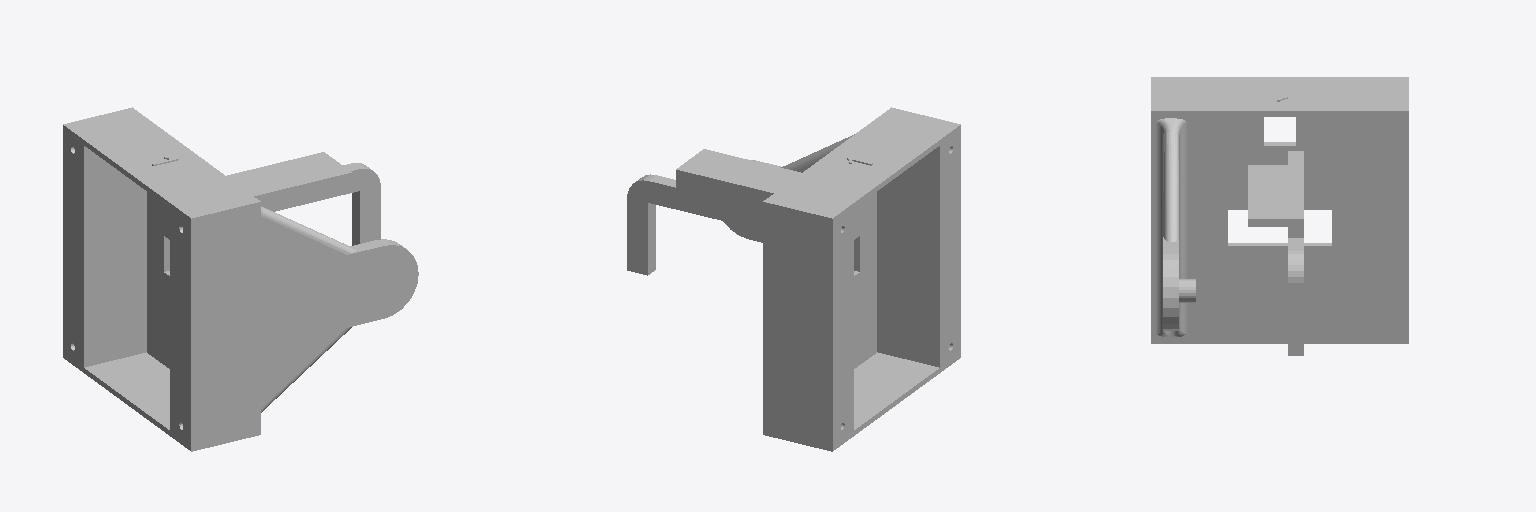
The model's file is bottom.obj.
3 views of the same model, side by side, from view 1: azimuth 30°, elevation 25°; view 2: azimuth 150°, elevation 25°; view 3: azimuth 270°, elevation 25° (orthographic).
Parts seen in each view (by area): view 1: bottom.001; view 2: bottom.001; view 3: bottom.001.
Part boxes in pixels (bbox=[...]): bottom.001: bbox=[63, 107, 418, 451]; bottom.001: bbox=[627, 107, 960, 451]; bottom.001: bbox=[1151, 77, 1408, 355].
Size of the model in its own units: 0.074 by 0.0644 by 0.064.